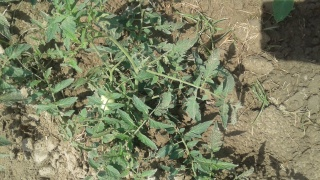tomato flower: (92, 91, 115, 112)
tomato plant: (107, 13, 222, 162), (4, 6, 87, 123)
